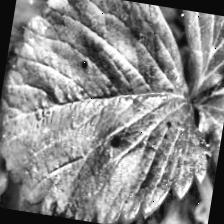Leaf Spot: (0, 0, 224, 224), (0, 177, 88, 220)
